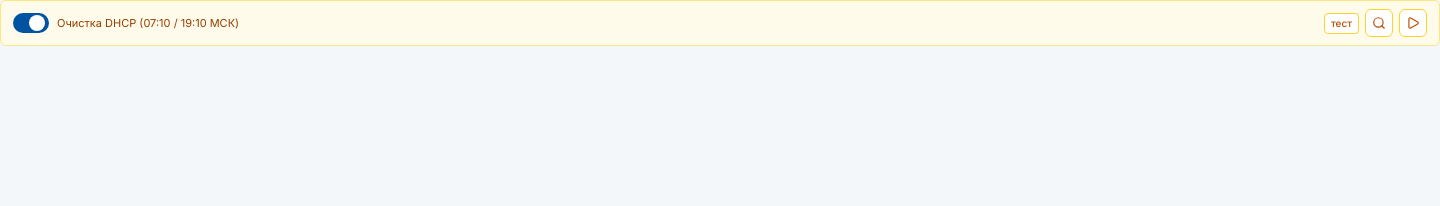
SwitchDhcpPanel › warns when snooping is combined with ARP inspection on the AP VLAN
Click the button named "Диагностика DHCP" at (1379, 23), box left=1365, top=9, right=1393, bottom=37
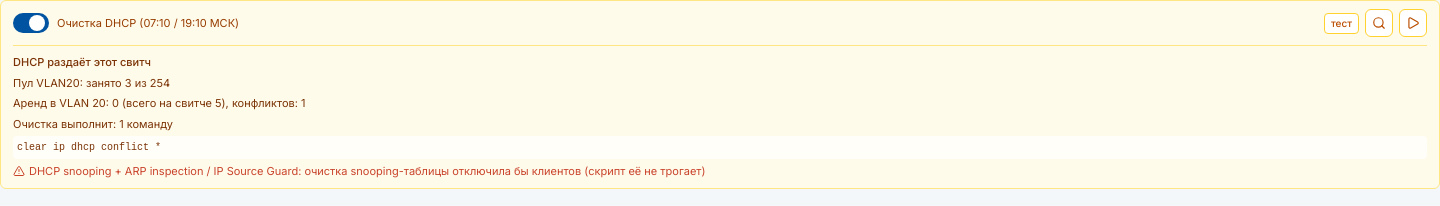
Check: the text "ARP inspection" is shown, box left=29, top=164, right=706, bottom=178
